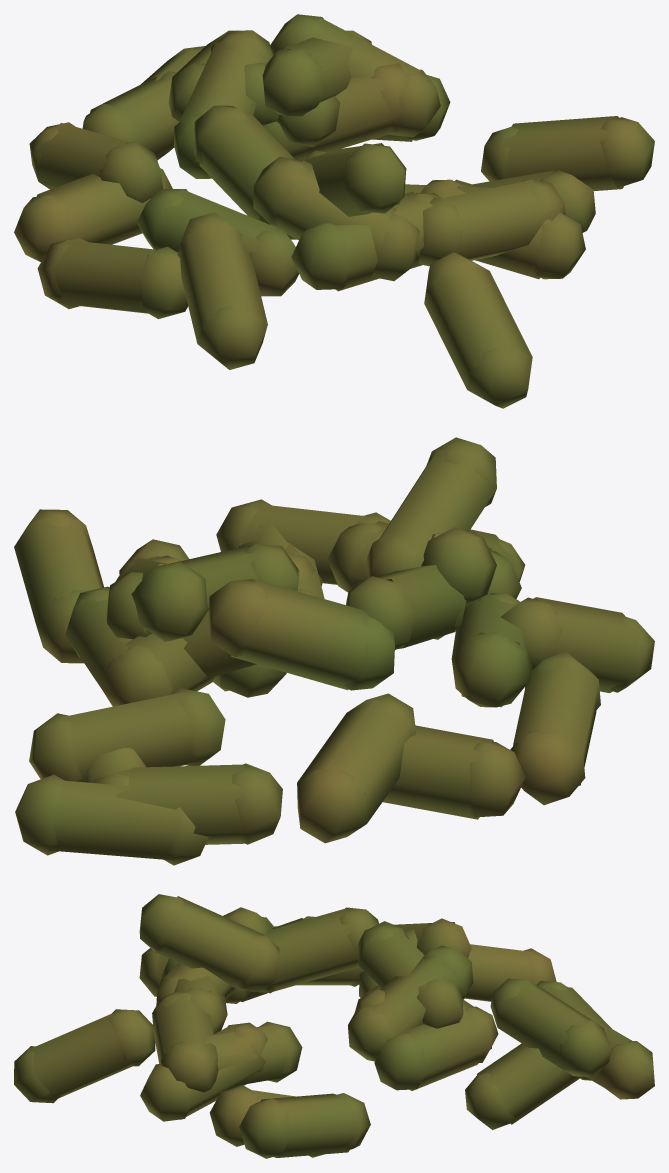
Rendered from Pellets.glb.
The picture shows the model from 3 angles, top to bottom: view 1: azimuth 30°, elevation 25°; view 2: azimuth 150°, elevation 25°; view 3: azimuth 270°, elevation 25°; orthographic projection. The views are drawn at different scales.
Parts seen in each view (by area): view 1: PelletPile; view 2: PelletPile; view 3: PelletPile.
Boxes of the visible parts, x1=… form: PelletPile: x1=14, y1=14, x2=654, y2=408; PelletPile: x1=14, y1=437, x2=654, y2=865; PelletPile: x1=14, y1=894, x2=654, y2=1158.
Size of the model in its own units: 0.0782 by 0.0295 by 0.0933.
